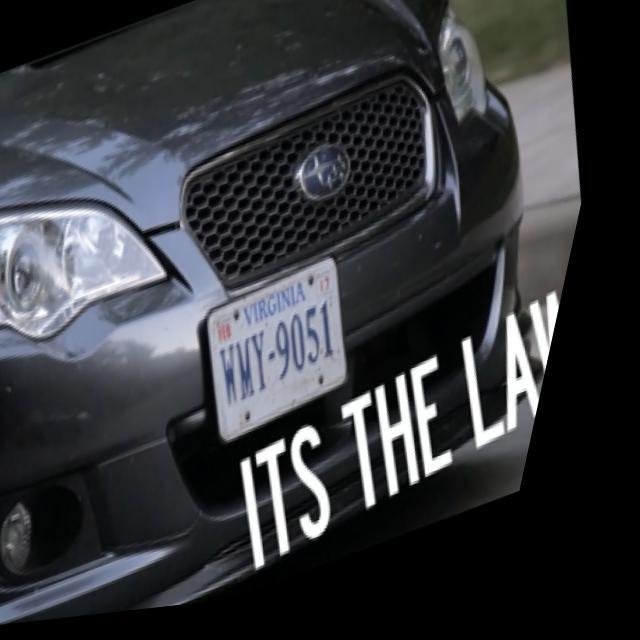license_plate: (196, 270, 384, 443)
